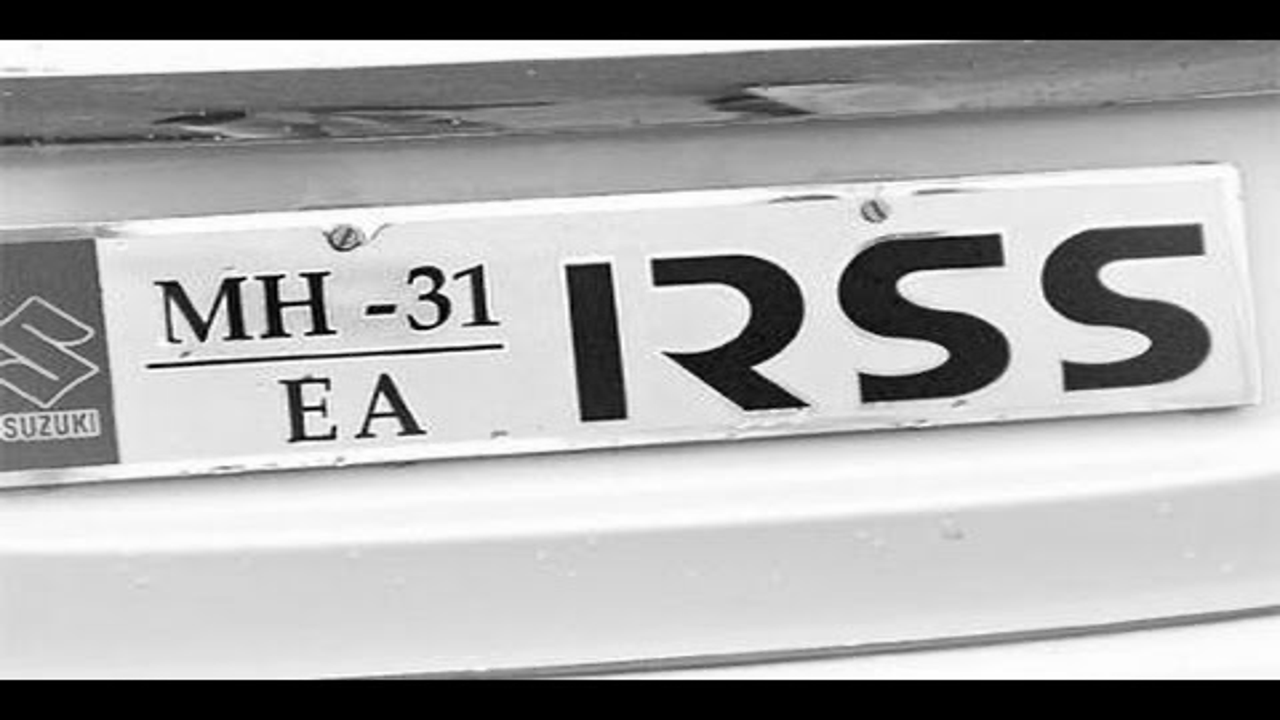license: (1, 159, 1262, 513)
